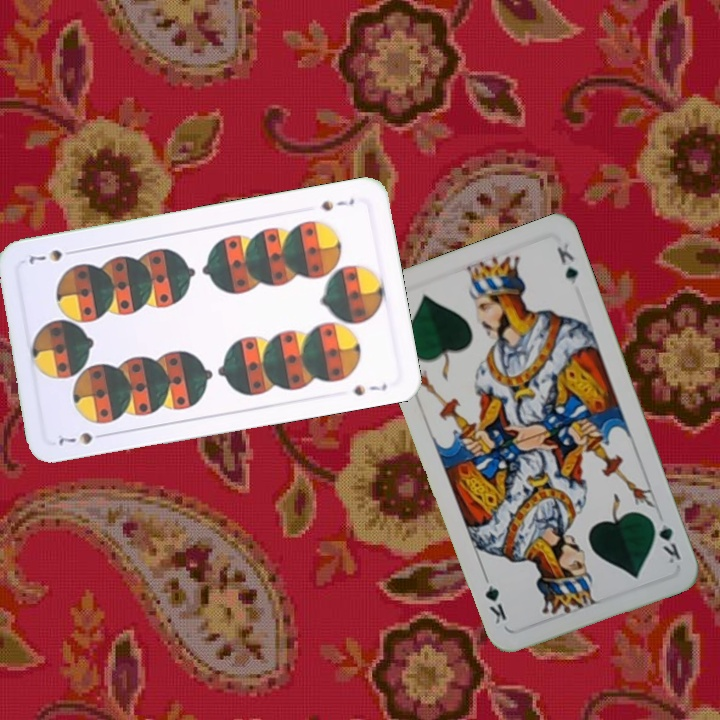GK: (646, 513, 684, 566)
S7: (54, 428, 110, 449), (317, 194, 357, 214)
